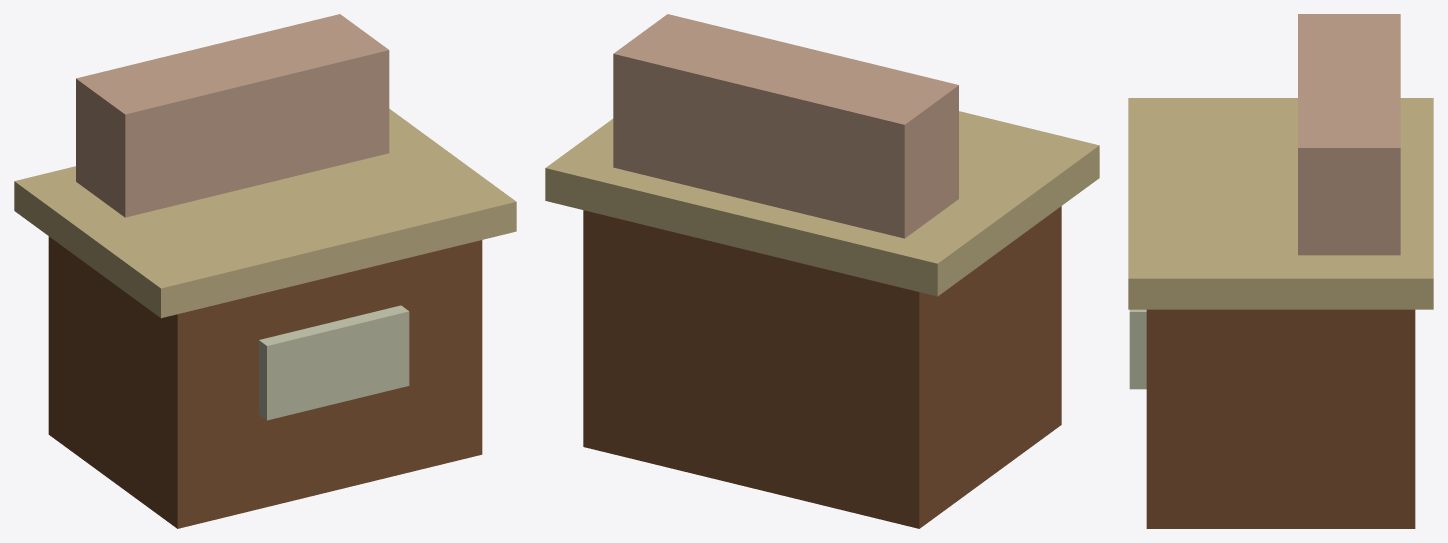
Rendered from game_table.glb.
3 renders of one model, left to right at view 1: azimuth 30°, elevation 25°; view 2: azimuth 150°, elevation 25°; view 3: azimuth 270°, elevation 25°, orthographic. The views are drawn at different scales.
Visible parts, largest first — view 1: body, functional_surface, upper, accent_panel; view 2: body, upper, functional_surface; view 3: body, functional_surface, upper, accent_panel.
Part boxes in pixels (x1=…): body: x1=48, y1=236, x2=482, y2=528; functional_surface: x1=14, y1=109, x2=516, y2=318; upper: x1=76, y1=14, x2=389, y2=217; accent_panel: x1=259, y1=305, x2=409, y2=420; body: x1=583, y1=206, x2=1061, y2=528; upper: x1=613, y1=14, x2=958, y2=238; functional_surface: x1=545, y1=111, x2=1099, y2=296; body: x1=1146, y1=309, x2=1415, y2=528; functional_surface: x1=1128, y1=98, x2=1433, y2=309; upper: x1=1298, y1=14, x2=1400, y2=255; accent_panel: x1=1129, y1=309, x2=1146, y2=389.
Size of what is drawn, in the model's own units: 1.75 by 1.68 by 1.25.
